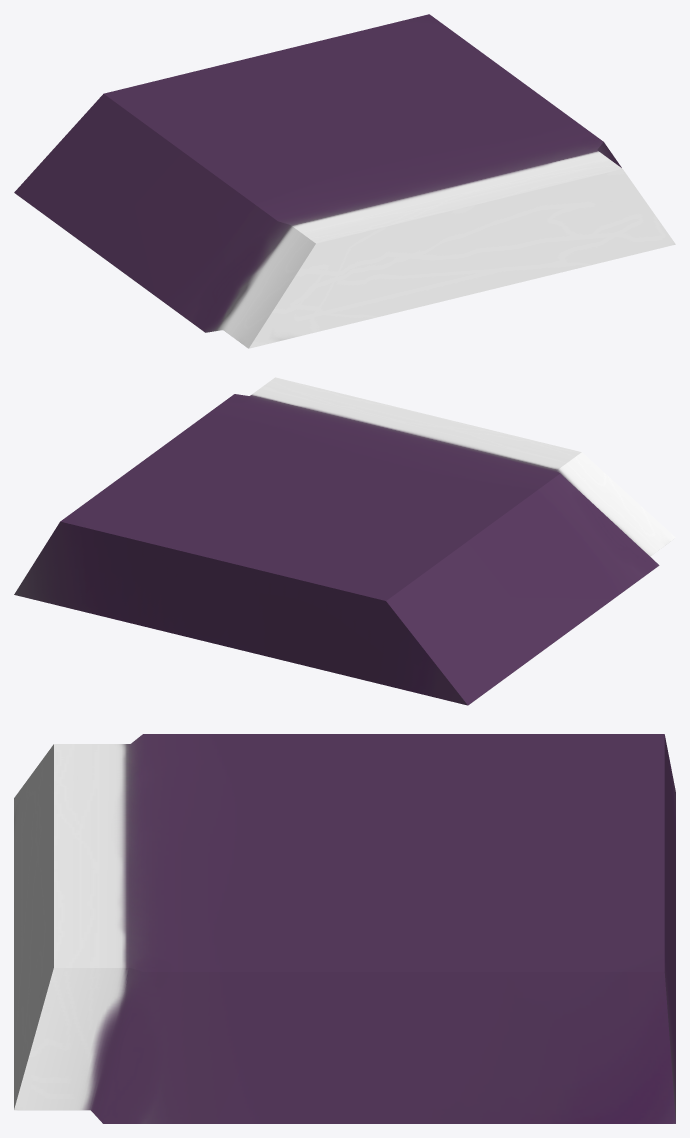
The model's file is pillow_half.fbx.
3 views of the same model, one above another, from view 1: azimuth 30°, elevation 25°; view 2: azimuth 150°, elevation 25°; view 3: azimuth 270°, elevation 25° (orthographic). The views are drawn at different scales.
Visible parts, largest first — view 1: pCube1; view 2: pCube1; view 3: pCube1.
Boxes of the visible parts, left/top/right/bottom form: pCube1: left=14, top=14, right=675, bottom=348; pCube1: left=14, top=377, right=675, bottom=705; pCube1: left=14, top=734, right=675, bottom=1123.
Bounding box in the file's own units: 3.8 × 0.6457 × 3.2.
Materials: 1 (1 with a texture image).
